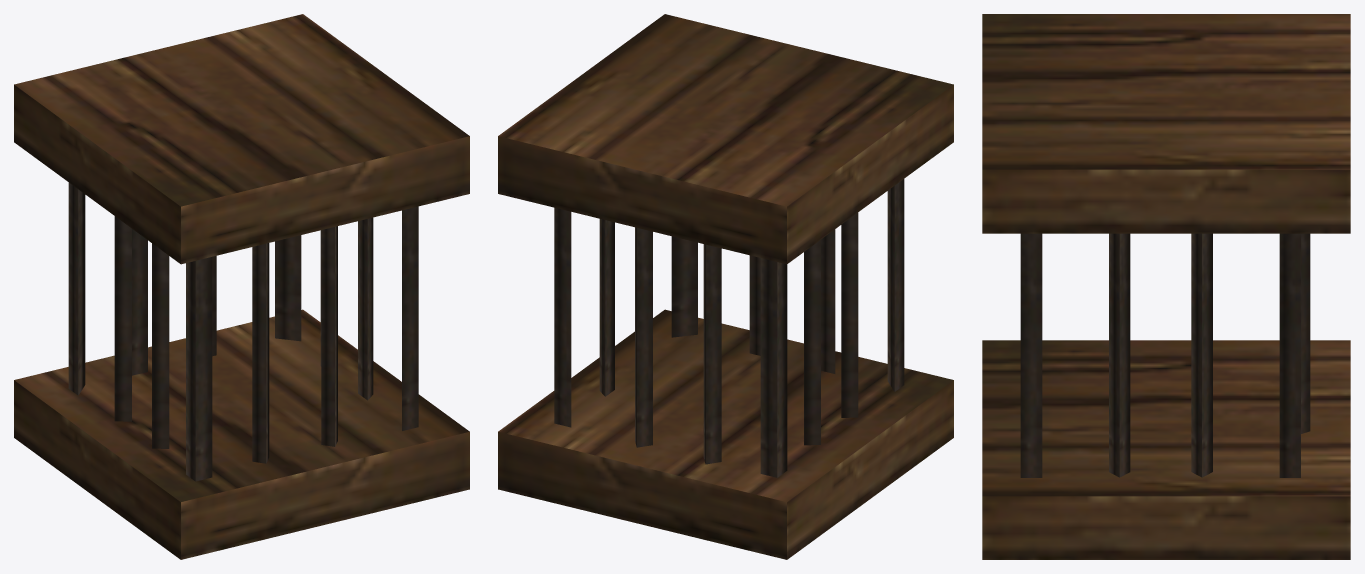
The model's file is lumina_wuqijia_06.FBX.
The picture shows the model from 3 angles, left to right: view 1: azimuth 30°, elevation 25°; view 2: azimuth 150°, elevation 25°; view 3: azimuth 270°, elevation 25°; orthographic projection. The views are drawn at different scales.
Parts seen in each view (by area): view 1: lumina_wuqijia_06; view 2: lumina_wuqijia_06; view 3: lumina_wuqijia_06.
Part boxes in pixels (left/top/right/bottom): lumina_wuqijia_06: left=14, top=14, right=469, bottom=559; lumina_wuqijia_06: left=498, top=14, right=953, bottom=559; lumina_wuqijia_06: left=982, top=14, right=1350, bottom=559.
Size of the model in its own units: 0.8 by 0.9344 by 0.8.
